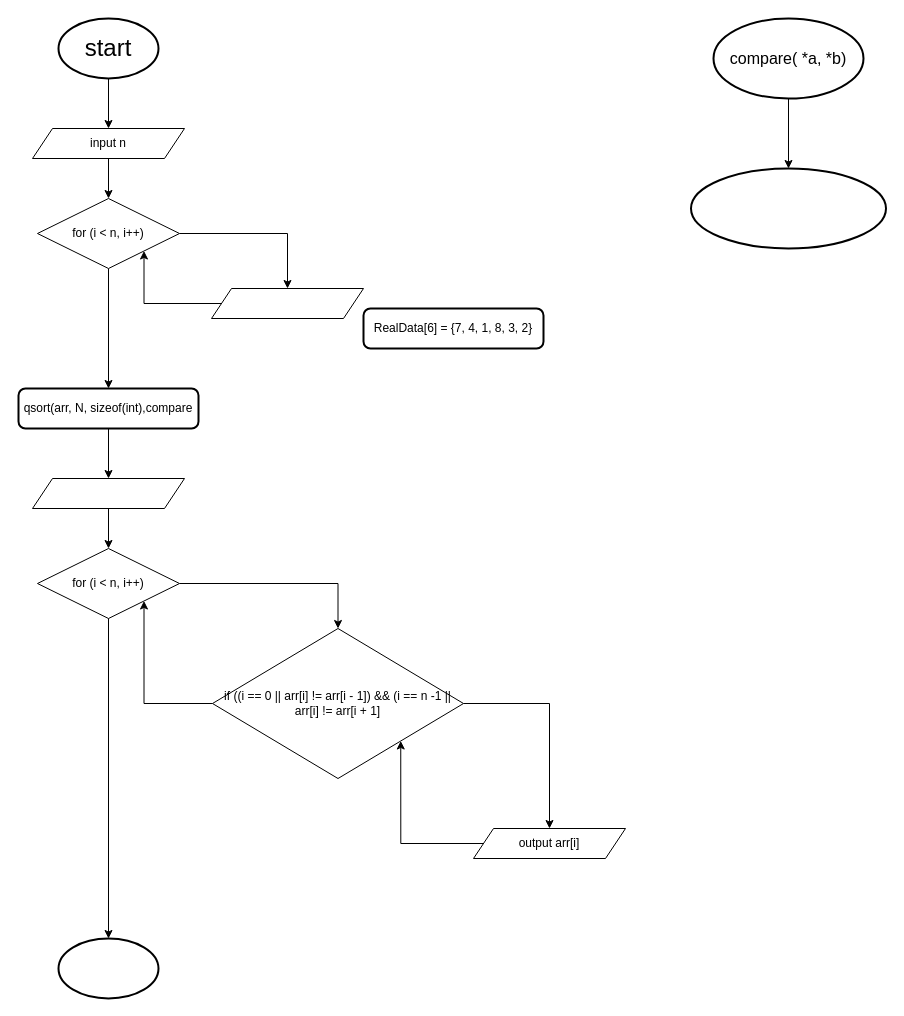
This 904x1016 diagram has some shape labels left out. Here are the shapes that lost their labels. From the top down, the box of each, then its label:
(690, 167, 886, 249): return (*(int *) a - *(int *) b
(210, 288, 364, 318): input arr[i]
(32, 478, 184, 508): output "Unique value :"
(57, 937, 159, 999): end
